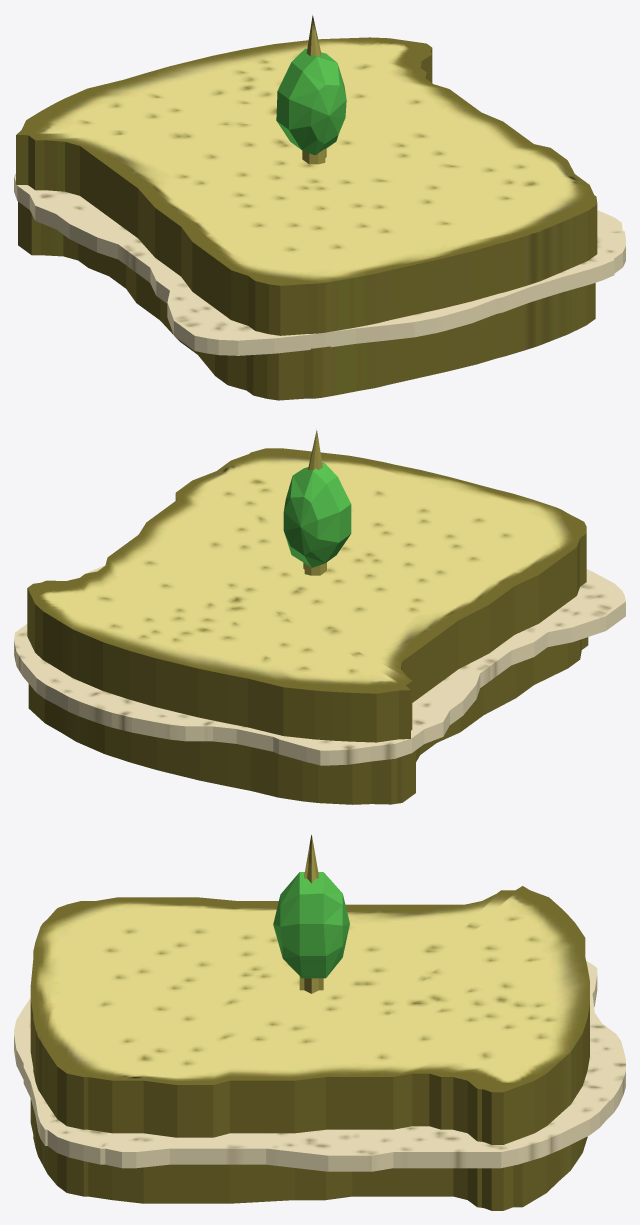
The model's file is InvTofu.glb.
3 renders of one model, top to bottom at view 1: azimuth 30°, elevation 25°; view 2: azimuth 150°, elevation 25°; view 3: azimuth 270°, elevation 25°, orthographic. The views are drawn at different scales.
Visible parts, largest first — view 1: InvTofu; view 2: InvTofu; view 3: InvTofu.
Boxes of the visible parts, x1,y1,x2,y2 form: InvTofu: (14, 15, 625, 400); InvTofu: (14, 429, 625, 804); InvTofu: (14, 834, 625, 1210).
Bounding box in the file's own units: 32.76 × 18.37 × 37.17.
Materials: 1 (1 with a texture image).
